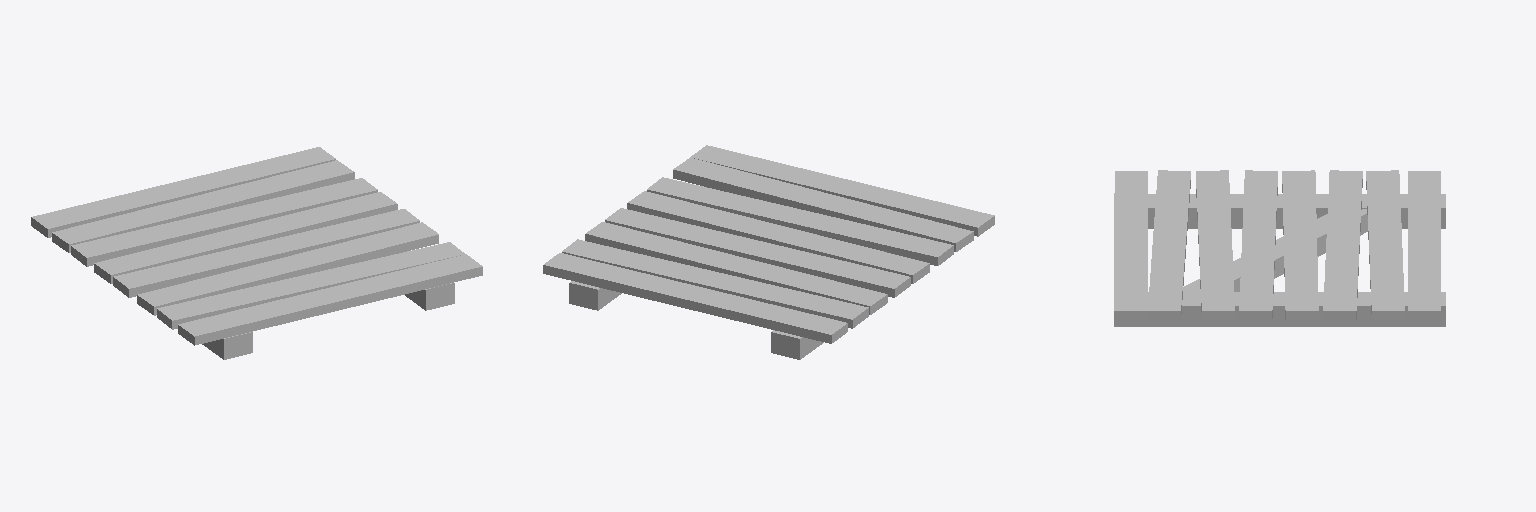
The model's file is woodencatwalkz.obj.
3 renders of one model, left to right at view 1: azimuth 30°, elevation 25°; view 2: azimuth 150°, elevation 25°; view 3: azimuth 270°, elevation 25°, orthographic.
Visible parts, largest first — view 1: bedx+; view 2: bedx+; view 3: bedx+.
Boxes of the visible parts, box(x1,y1,x2,y2) form: bedx+: box(31, 147, 482, 359); bedx+: box(543, 145, 994, 359); bedx+: box(1114, 170, 1445, 326).
Size of the model in its own units: 1 by 0.1 by 1.